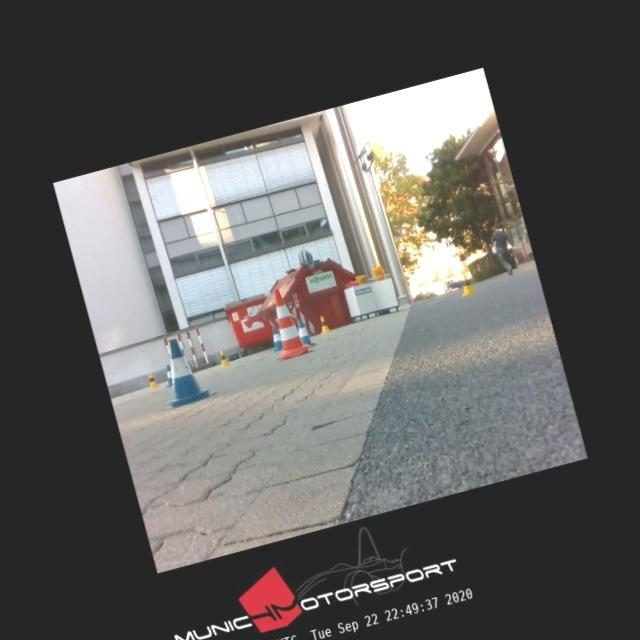blue_cone: (148, 331, 216, 408), (296, 317, 316, 346), (268, 329, 282, 351), (162, 365, 174, 387)
large_orange_cone: (260, 284, 312, 360)
yellow_cone: (457, 272, 475, 296), (316, 314, 331, 334), (216, 349, 230, 367), (146, 372, 158, 388)
